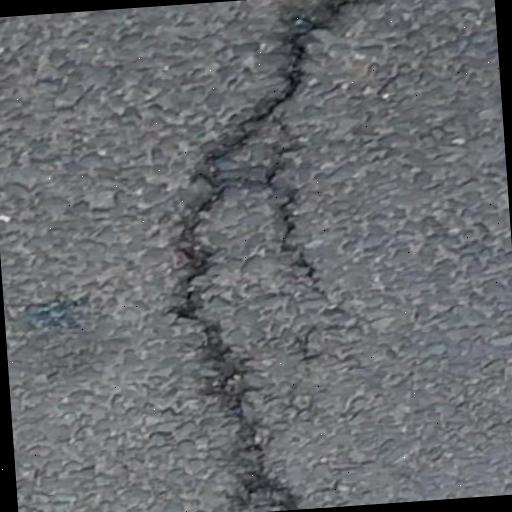spalling: (168, 0, 361, 508)
